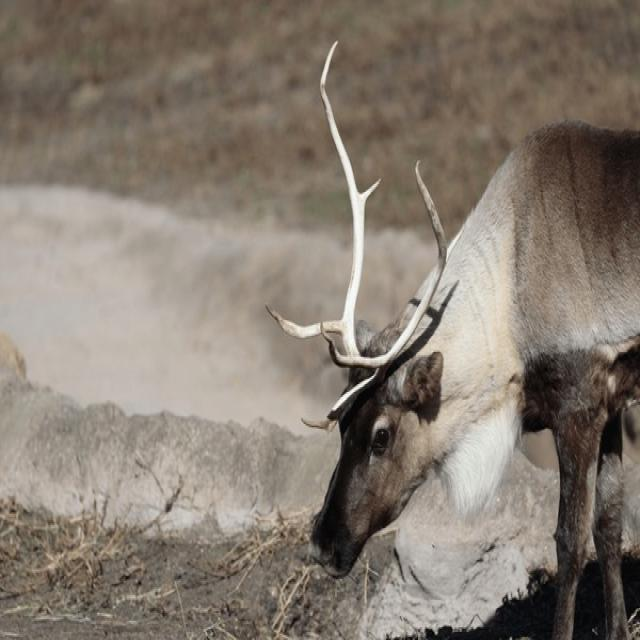Reindeer: (273, 38, 640, 640)
